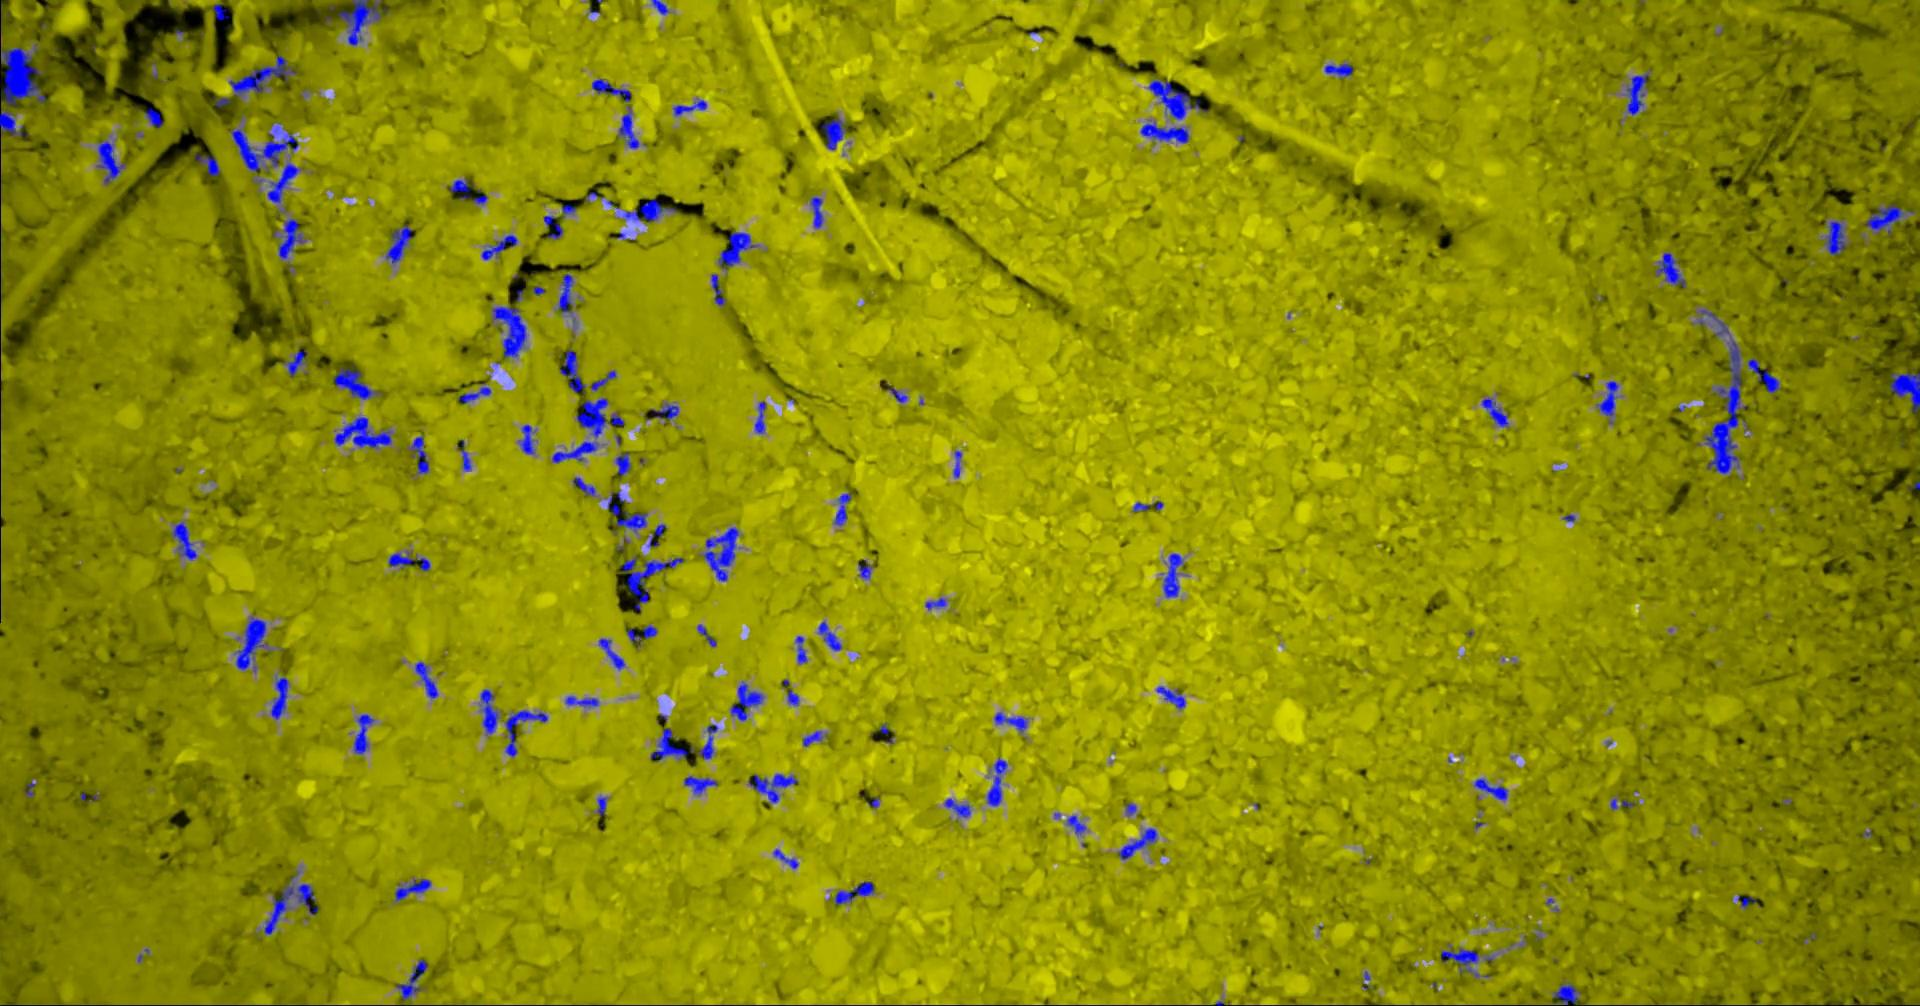ant: (551, 398, 607, 462), (620, 555, 684, 611), (263, 870, 317, 934), (590, 77, 639, 149), (229, 55, 295, 97), (1148, 79, 1208, 119), (337, 0, 386, 44), (504, 709, 547, 756), (702, 527, 738, 580), (334, 417, 391, 448), (491, 306, 526, 357), (607, 490, 648, 532), (235, 616, 267, 669), (1863, 205, 1914, 238), (333, 365, 380, 399), (717, 230, 757, 269), (650, 727, 693, 761), (1440, 948, 1490, 977), (265, 161, 300, 202), (748, 774, 797, 801), (729, 681, 763, 720), (395, 958, 427, 998), (623, 198, 676, 222), (1117, 827, 1157, 859), (1747, 357, 1782, 392), (97, 140, 124, 183), (559, 349, 585, 392), (1890, 372, 1919, 412), (1655, 251, 1685, 288), (1140, 119, 1189, 142), (385, 225, 411, 265), (985, 757, 1007, 807), (278, 218, 305, 258), (1625, 72, 1648, 116), (1595, 380, 1618, 423), (171, 521, 196, 559), (353, 713, 375, 754), (481, 234, 517, 259), (1162, 553, 1182, 597), (834, 882, 874, 904), (414, 661, 437, 699), (1697, 309, 1728, 335), (479, 688, 498, 733), (394, 878, 430, 901), (1481, 398, 1509, 427), (598, 638, 623, 669), (389, 551, 430, 570), (1823, 220, 1845, 255), (270, 676, 288, 719), (697, 723, 717, 760), (822, 117, 844, 149), (626, 624, 657, 647), (1473, 779, 1507, 799), (818, 621, 841, 650), (1156, 685, 1185, 708), (410, 436, 428, 473), (683, 775, 717, 794), (281, 351, 307, 375), (672, 98, 706, 116), (1552, 982, 1578, 1005), (833, 492, 851, 525), (994, 713, 1027, 730), (448, 177, 472, 199), (557, 273, 571, 312), (457, 386, 490, 403), (196, 152, 218, 175), (649, 403, 678, 420), (517, 424, 535, 453), (943, 798, 970, 817), (590, 370, 615, 390), (772, 848, 797, 868), (696, 624, 716, 647), (543, 215, 563, 238), (571, 478, 596, 495), (1324, 64, 1352, 79), (711, 274, 725, 305), (457, 439, 471, 470), (648, 525, 665, 547), (809, 196, 822, 227), (143, 107, 163, 127), (565, 695, 598, 706), (615, 452, 630, 476), (754, 401, 766, 433), (1065, 815, 1084, 835), (795, 635, 806, 663), (212, 3, 229, 20), (803, 730, 822, 746), (1610, 798, 1636, 809), (857, 559, 871, 578), (888, 387, 905, 401), (952, 450, 961, 478), (924, 597, 946, 608), (1737, 895, 1756, 908), (472, 189, 488, 205), (651, 0, 668, 14), (786, 688, 799, 705), (561, 205, 575, 218), (596, 796, 606, 815), (24, 780, 36, 796), (610, 414, 623, 426), (1131, 502, 1149, 511), (213, 97, 229, 107), (1125, 801, 1135, 815)
